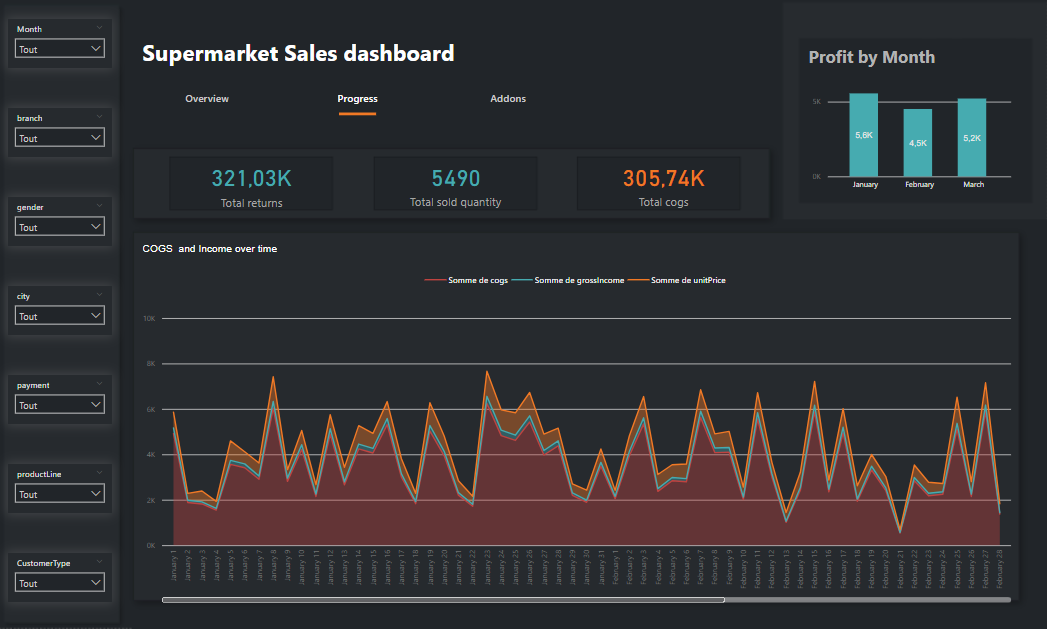

What the dashboard file says about the page in this screenshot:
{"tool":"powerbi","page":{"name":"Progress","canvas":[1500,900],"ordinal":1},"visuals":[{"type":"stackedAreaChart","fields":{"Y":["Sum(factSales.cogs)","Sum(factSales.grossIncome)","Sum(factSales.unitPrice)"],"Category":["dimDate.DateTime.Variation.Date Hierarchy.Month","dimDate.DateTime.Variation.Date Hierarchy.Day"]},"box":[200,380,1251.4,485.7],"z":0},{"type":"slicer","fields":{"Values":["dimDate.DateTime.Variation.Date Hierarchy.Month"]},"box":[12.7,27,148.3,70],"z":1000},{"type":"slicer","fields":{"Values":["dimBranch.branch"]},"box":[12.7,154.2,148.3,70],"z":2000},{"type":"slicer","fields":{"Values":["dimGender.gender"]},"box":[12.7,281.4,148.3,70],"z":3000},{"type":"slicer","fields":{"Values":["dimCity.city"]},"box":[12.7,408.7,148.3,70],"z":4000},{"type":"slicer","fields":{"Values":["dimPayment.payment"]},"box":[12.7,535.9,148.3,70],"z":5000},{"type":"slicer","fields":{"Values":["dimProductLine.productLine"]},"box":[12.7,663.1,148.3,70],"z":6000},{"type":"slicer","fields":{"Values":["dimCustomerType.CustomerType"]},"box":[12.7,790.3,148.3,70],"z":7000},{"type":"textbox","box":[200,46.7,473.3,63.3],"z":8000},{"type":"pageNavigator","box":[200,110,636,60],"z":9000},{"type":"textbox","box":[200,340,338.6,40],"z":10000},{"type":"shape","box":[485.7,155.7,52.9,14.3],"z":11000},{"type":"card","fields":{"Values":["Sum(factSales.total)"]},"box":[262.9,224.3,195.7,77.1],"z":12000},{"type":"card","fields":{"Values":["Sum(factSales.quantity)"]},"box":[554.3,215.7,195.7,92.9],"z":13000},{"type":"card","fields":{"Values":["Sum(factSales.cogs)"]},"box":[851.4,215.7,195.7,92.9],"z":14000},{"type":"textbox","box":[1152,58,294,52],"z":15000},{"type":"columnChart","fields":{"Category":["dimDate.DateTime.Variation.Date Hierarchy.Month"],"Y":["Sum(factSales.grossIncome)"]},"box":[1157.1,110,294.3,171.4],"z":16000}]}

Visuals, with their boxes in screenshot pixels (x1, y1, x2, y2), scaled from the page's 1500x900 canvas onto the 1047x629 screenshot:
stackedAreaChart - Sum(factSales.cogs) x Sum(factSales.grossIncome): <region>140, 266, 1013, 605</region>
slicer - dimDate.DateTime.Variation.Date Hierarchy.Month: <region>9, 19, 112, 68</region>
slicer - dimBranch.branch: <region>9, 108, 112, 157</region>
slicer - dimGender.gender: <region>9, 197, 112, 246</region>
slicer - dimCity.city: <region>9, 286, 112, 335</region>
slicer - dimPayment.payment: <region>9, 375, 112, 423</region>
slicer - dimProductLine.productLine: <region>9, 463, 112, 512</region>
slicer - dimCustomerType.CustomerType: <region>9, 552, 112, 601</region>
textbox: <region>140, 33, 470, 77</region>
pageNavigator: <region>140, 77, 584, 119</region>
textbox: <region>140, 238, 376, 266</region>
shape: <region>339, 109, 376, 119</region>
card - Sum(factSales.total): <region>184, 157, 320, 211</region>
card - Sum(factSales.quantity): <region>387, 151, 524, 216</region>
card - Sum(factSales.cogs): <region>594, 151, 731, 216</region>
textbox: <region>804, 41, 1009, 77</region>
columnChart - dimDate.DateTime.Variation.Date Hierarchy.Month x Sum(factSales.grossIncome): <region>808, 77, 1013, 197</region>
